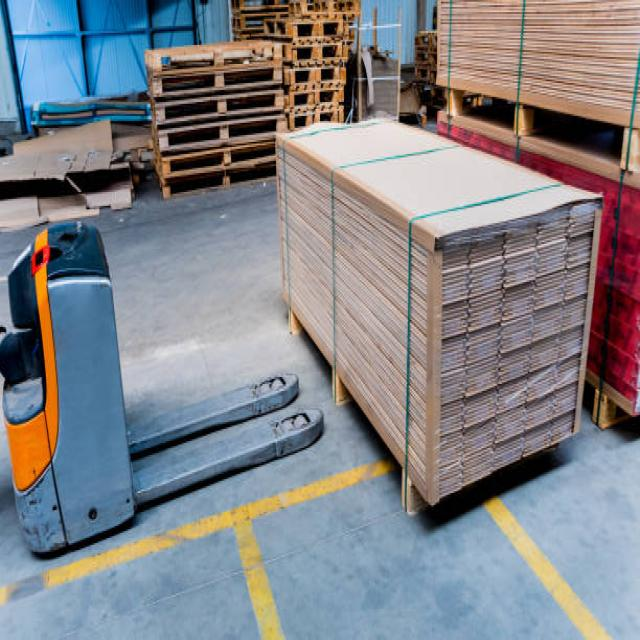Wooden-Pallets: (144, 68, 280, 95), (155, 121, 285, 146), (144, 49, 280, 68), (286, 39, 350, 66), (293, 20, 347, 42), (288, 88, 346, 108), (288, 66, 344, 86)
